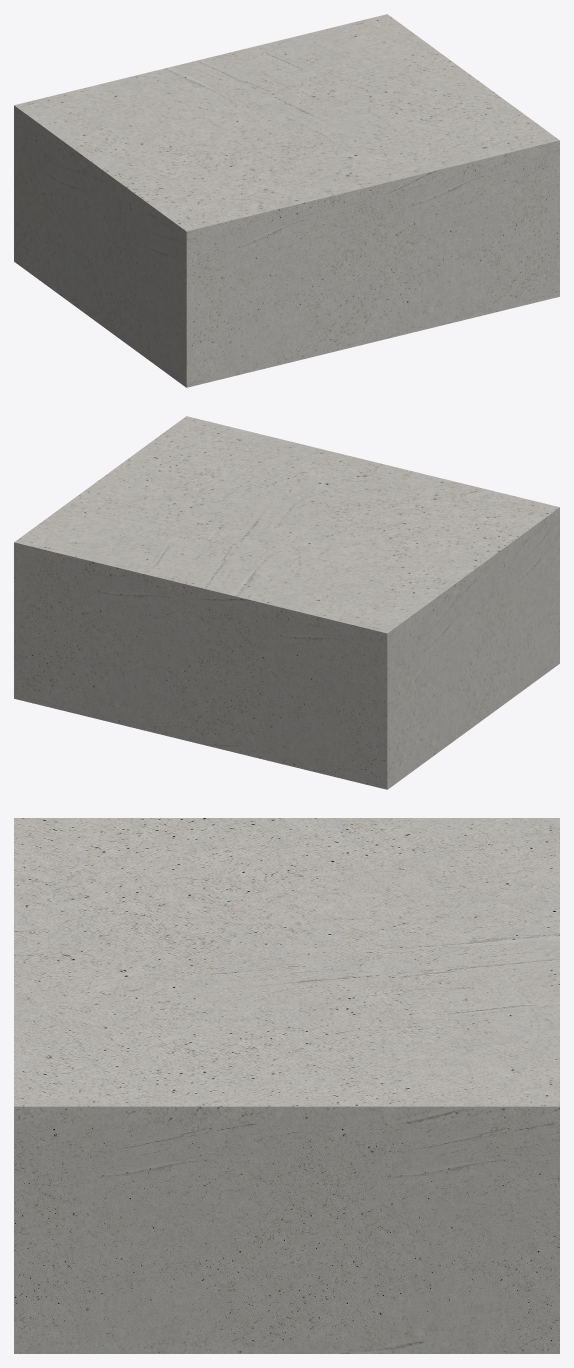
Rendered from garage.glb.
3 views of the same model, one above another, from view 1: azimuth 30°, elevation 25°; view 2: azimuth 150°, elevation 25°; view 3: azimuth 270°, elevation 25° (orthographic). The views are drawn at different scales.
Visible parts, largest first — view 1: Garage; view 2: Garage; view 3: Garage.
Part boxes in pixels (x1,y1,x2,y2): Garage: [14, 14, 559, 387]; Garage: [14, 416, 559, 789]; Garage: [14, 818, 559, 1353].
Bounding box in the file's own units: 10 × 4 × 8.
Materials: 1 (1 with a texture image).
